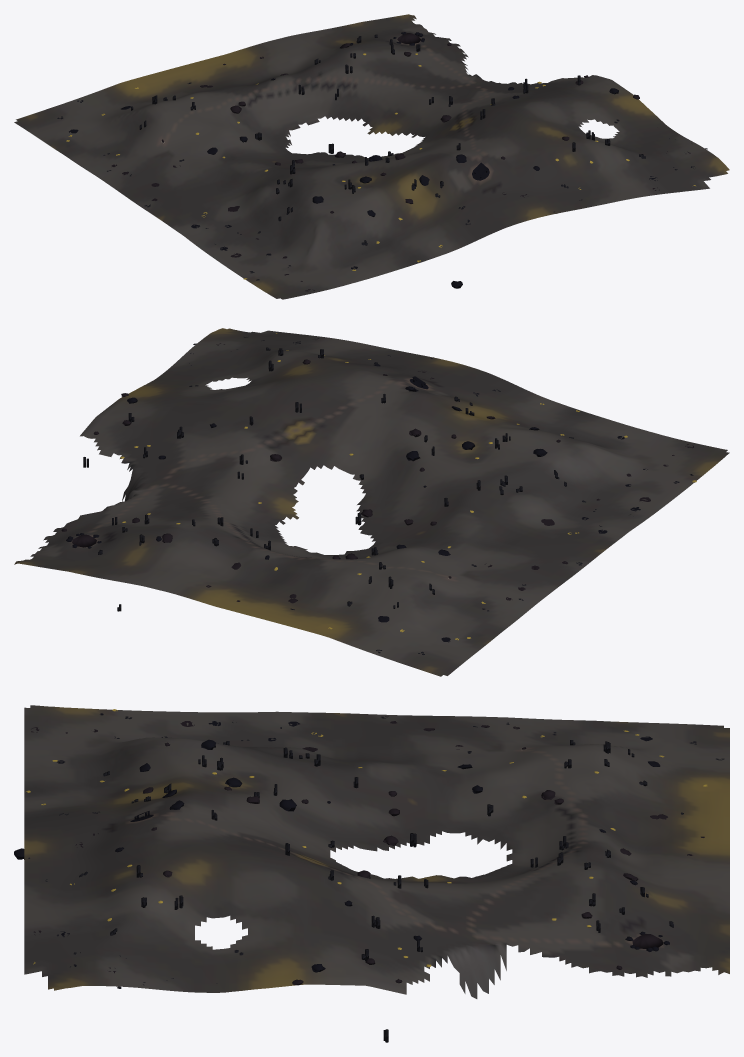
File: ash_isl_obsidian_arch.glb
The picture shows the model from 3 angles, top to bottom: view 1: azimuth 30°, elevation 25°; view 2: azimuth 150°, elevation 25°; view 3: azimuth 270°, elevation 25°; orthographic projection. The views are drawn at different scales.
Visible parts, largest first — view 1: ash_isl_obsidian_arch; view 2: ash_isl_obsidian_arch; view 3: ash_isl_obsidian_arch.
Boxes of the visible parts, box(x1,y1,x2,y2) form: ash_isl_obsidian_arch: box(14, 14, 729, 299); ash_isl_obsidian_arch: box(14, 328, 729, 676); ash_isl_obsidian_arch: box(14, 705, 729, 1042).
Size of the model in its own units: 242 by 36.81 by 244.
